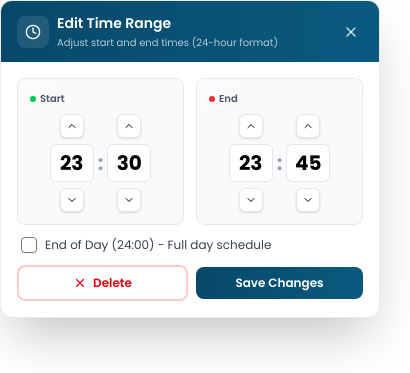
Scenario: CustomTimePicker › increments hour on Increase-hour click and wraps from 23 to 0
Click the button named "Increase start hour": (72, 126) [60,114,84,138]
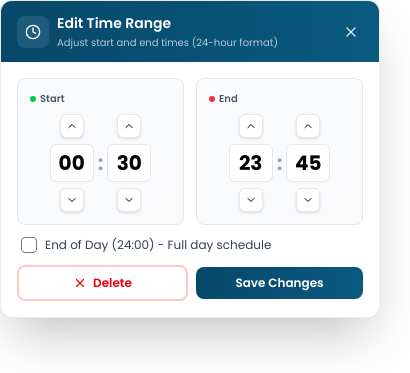
Now the field named "Start hour" holds "00", box [50,144,94,182]
